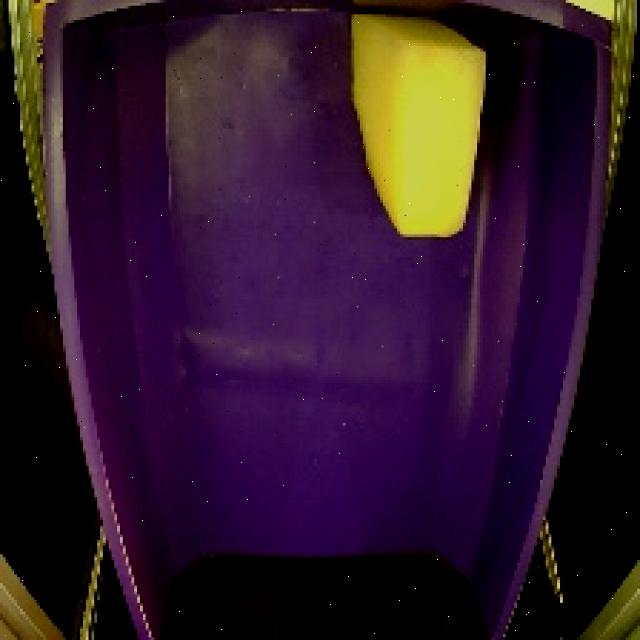potato: (338, 6, 503, 252)
